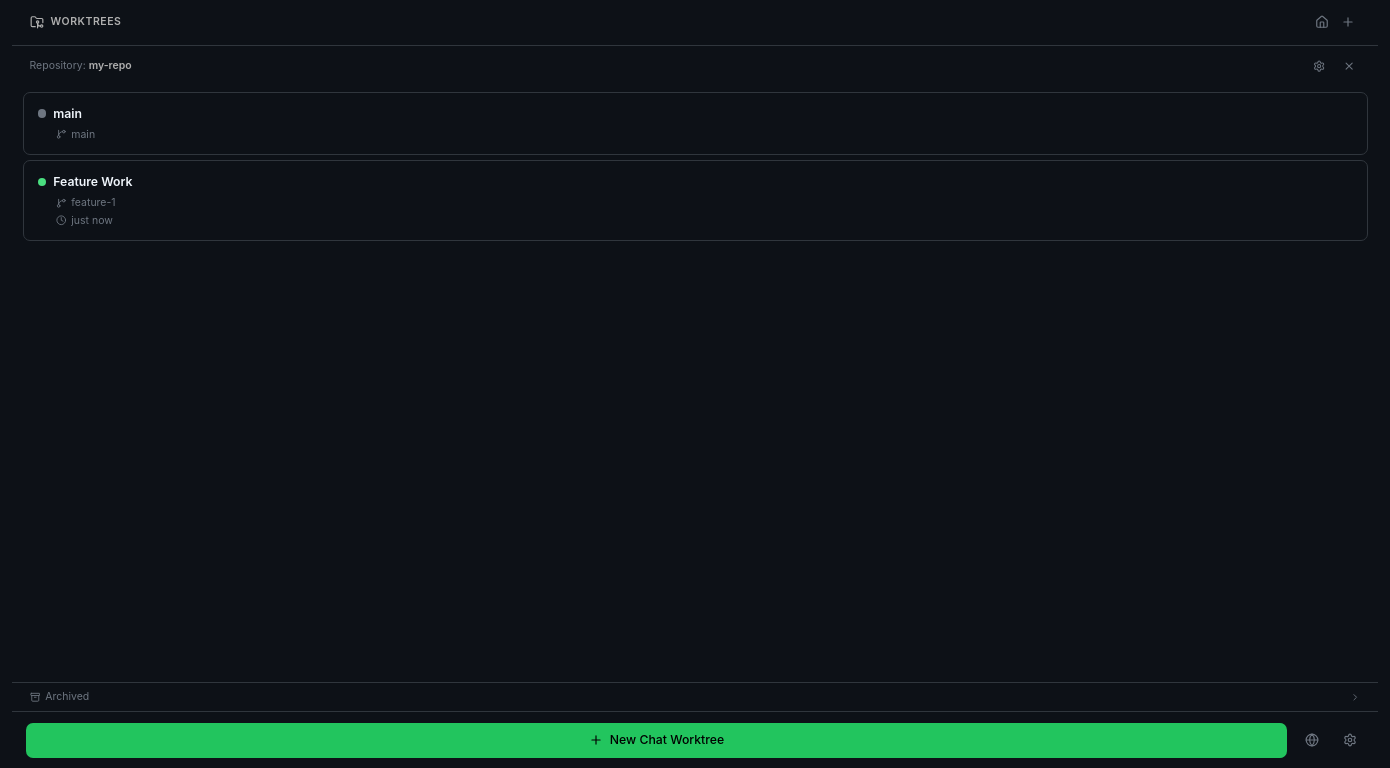
Test case: Sidebar › collapse/expand repositories › expands repo when toggle clicked again, showing workspaces
What coordinates should you click on to do the following:
click the button "Repository: my-repo"
I would click on:
 (59, 66)
Its box is 30,55 -> 1360,78.
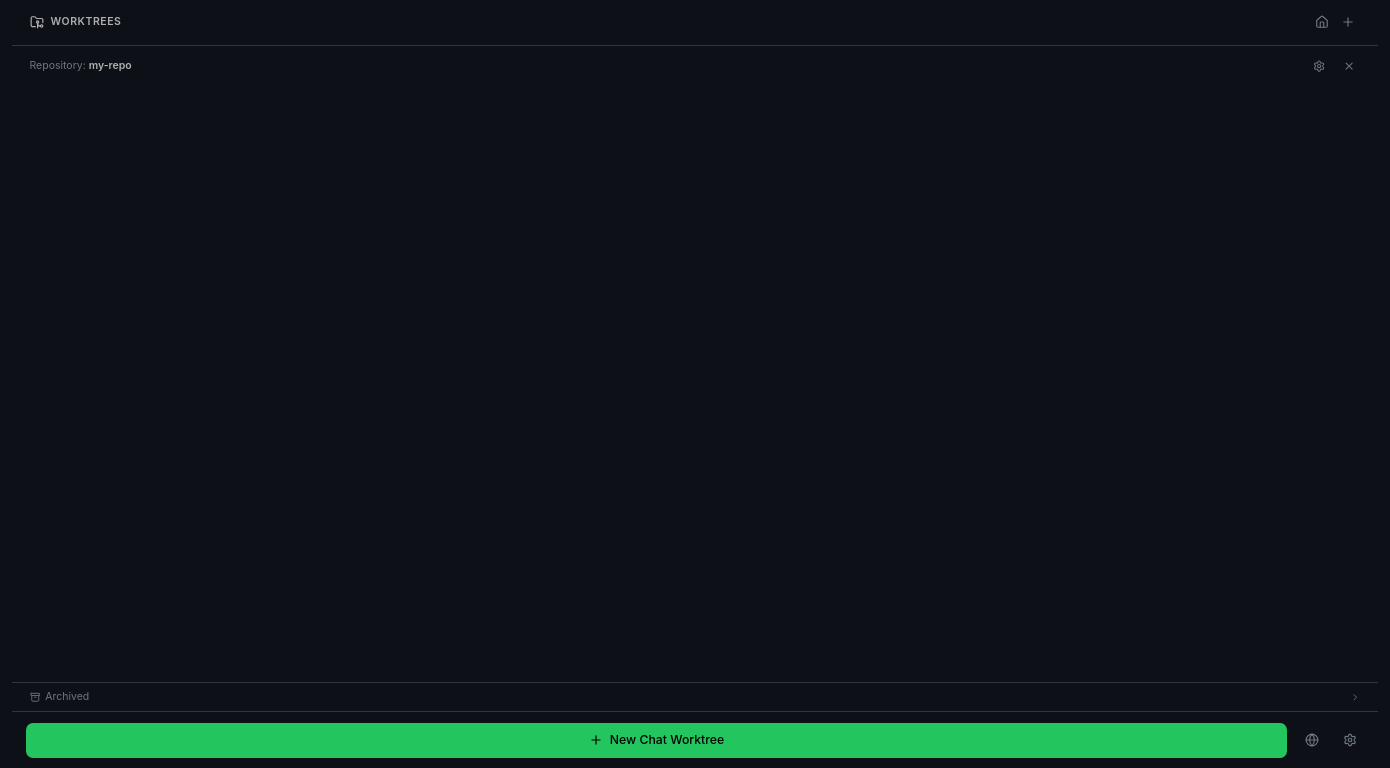
Expected: the button "Feature Work" is gone
What coordinates should you click on to do the following:
click the button "Repository: my-repo"
I would click on:
 (59, 66)
Its box is 30,55 -> 1360,78.
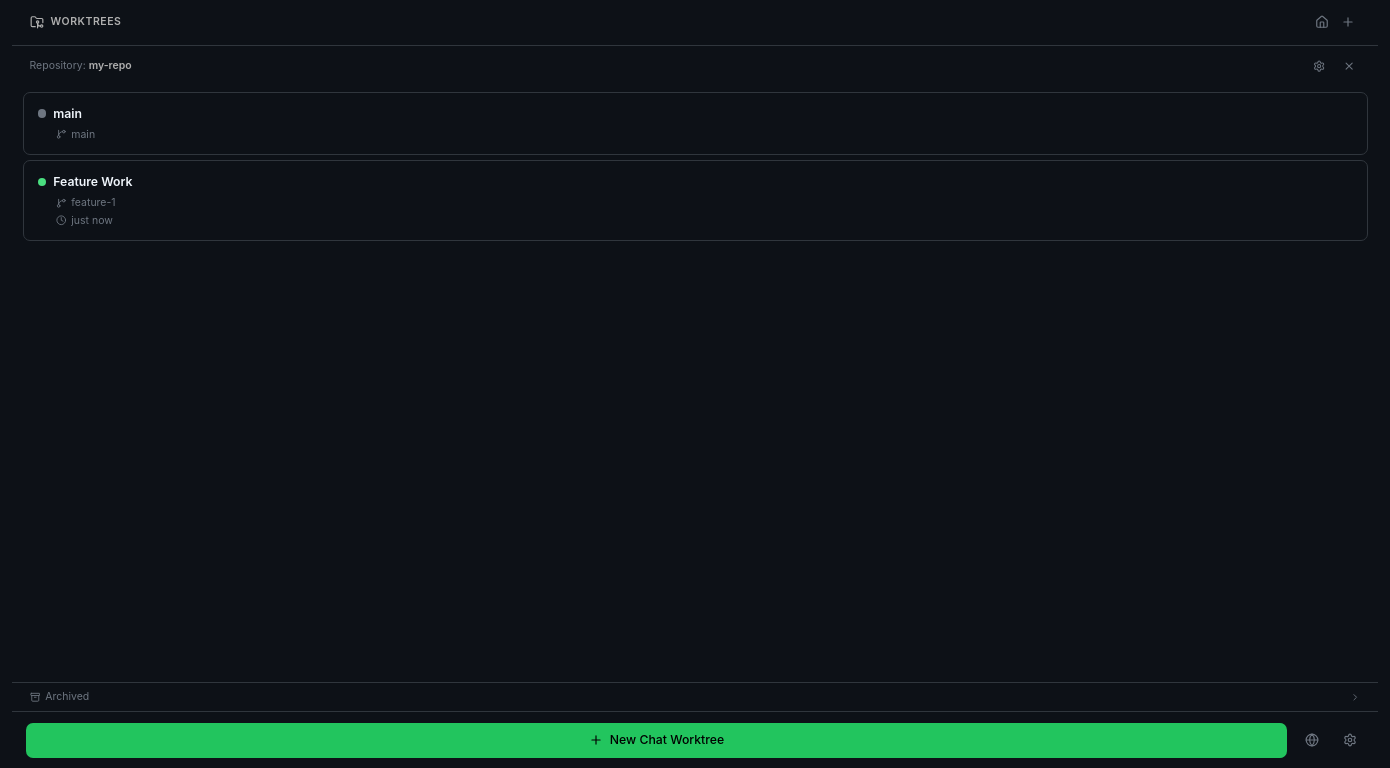
Expected: the text "Feature Work" is shown, 53,173 -> 133,191
